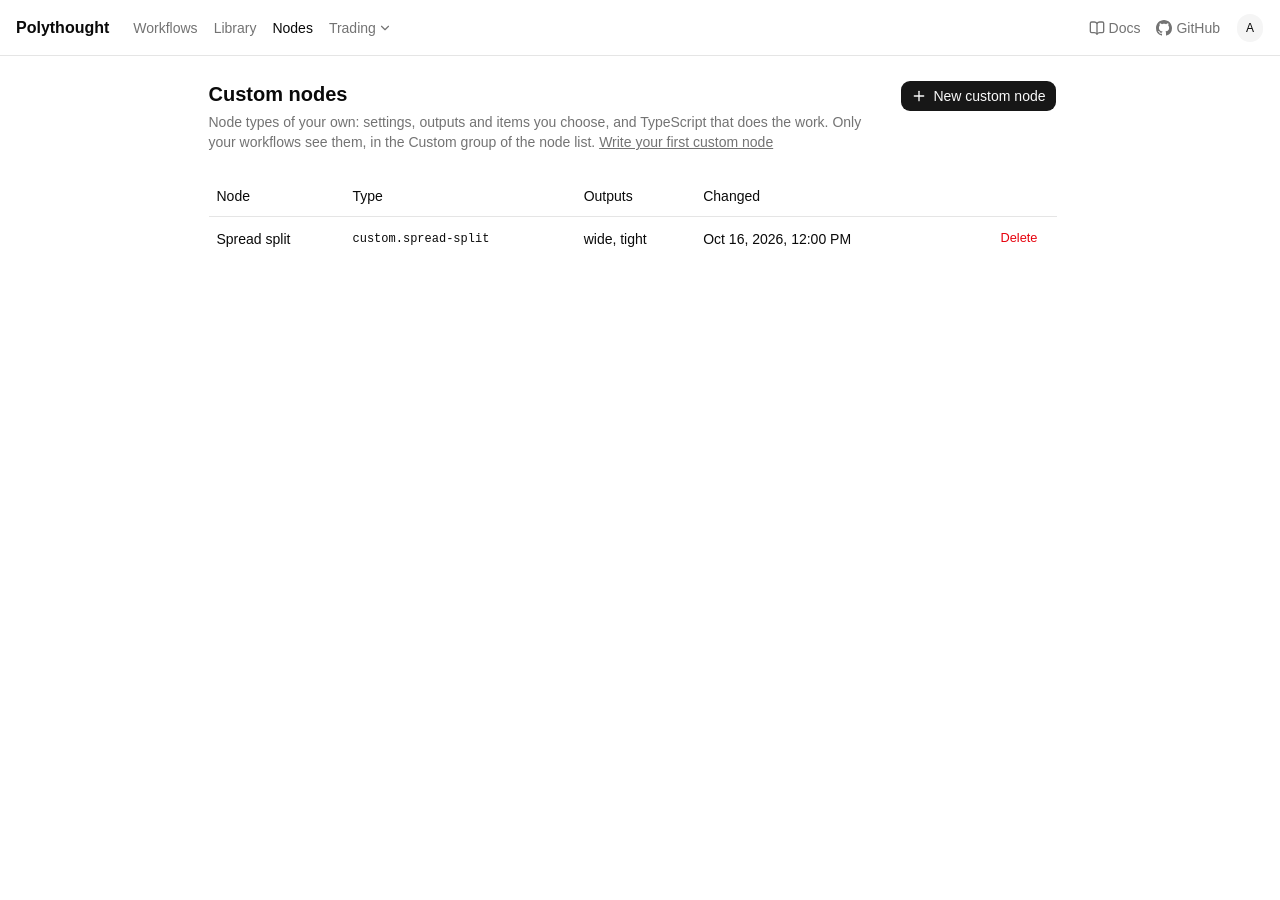
nodes page › lists custom nodes, and deletes one after naming the workflows it breaks
This screenshot has width=1280, height=900.
Expected: the text "custom.spread-split" is shown, top-left (344, 216), bottom-right (576, 260)
Expected: the text "wide, tight" is shown, top-left (576, 216), bottom-right (695, 260)
Click the button "Delete" at x=1019, y=238, box top-left (990, 224), bottom-right (1048, 252)
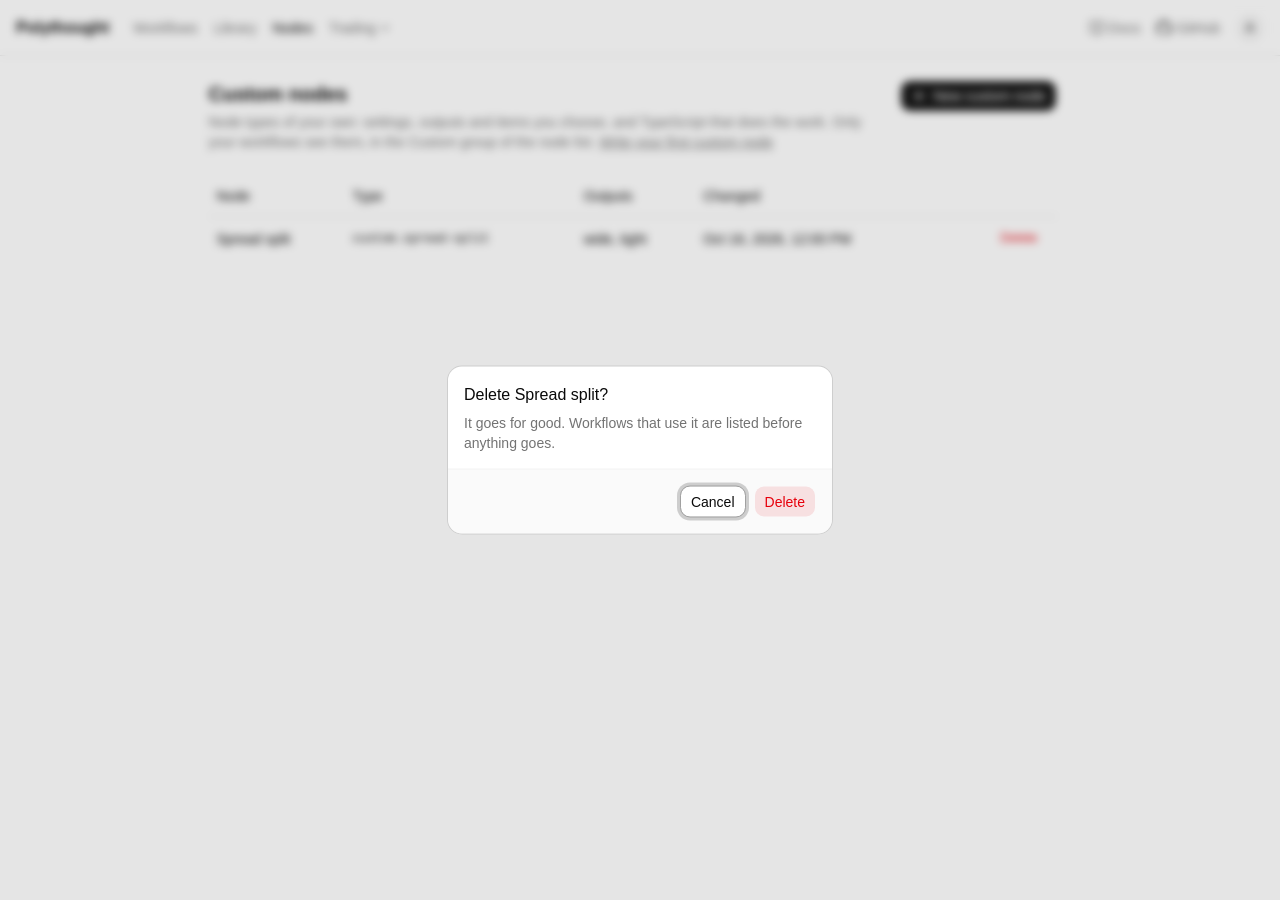
Click the button "Delete" at x=785, y=502, box top-left (754, 486), bottom-right (816, 518)
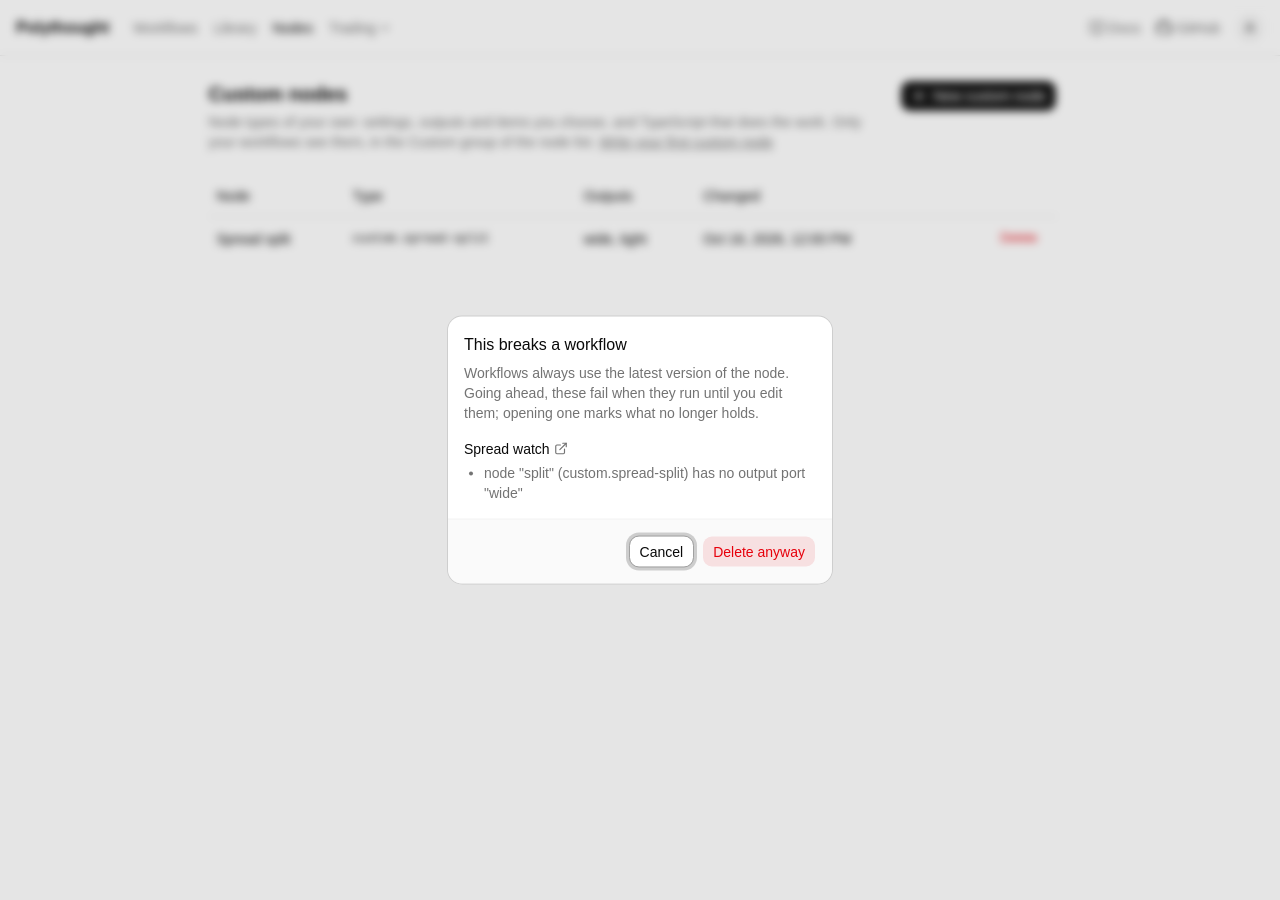
Now the list item "node \"split\" (custom.spread-split) has no output port \"wide\"" is shown, box top-left (484, 462), bottom-right (816, 502)
Click the button "Delete anyway" at x=759, y=552, box top-left (702, 536), bottom-right (816, 568)
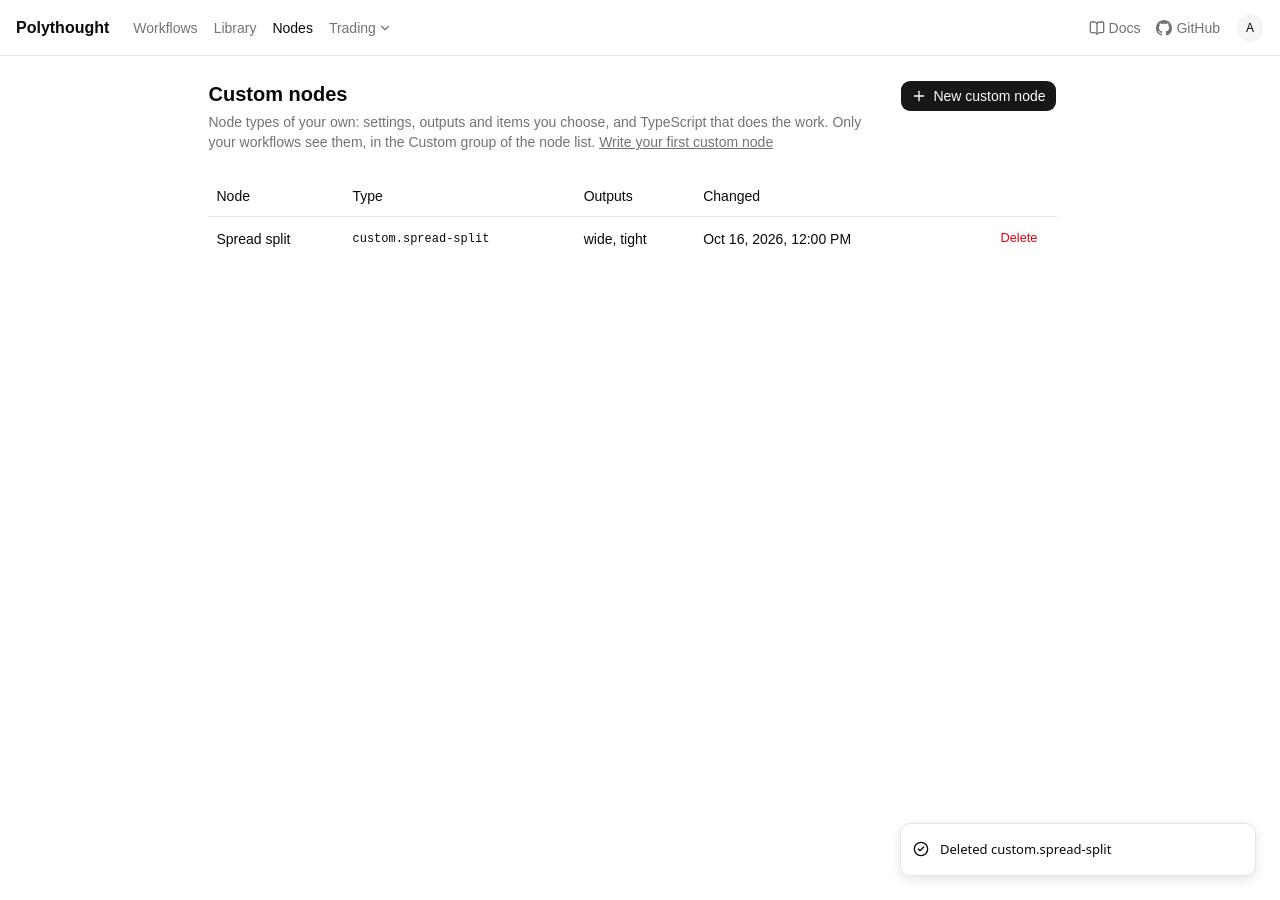
Now the text "Deleted custom.spread-split" is shown, box top-left (940, 840), bottom-right (1111, 859)
